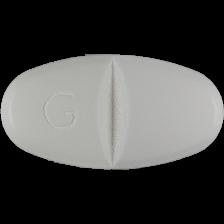68462-127: (0, 0, 224, 224)
